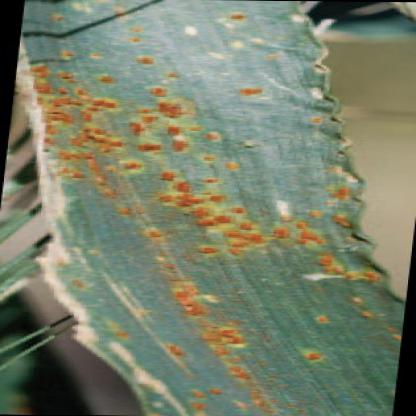Wheat Brown-rust: (42, 15, 305, 134), (92, 203, 350, 309), (105, 320, 387, 379), (44, 139, 310, 198), (161, 385, 303, 415), (324, 181, 360, 201), (358, 264, 388, 284), (5, 90, 25, 91)
